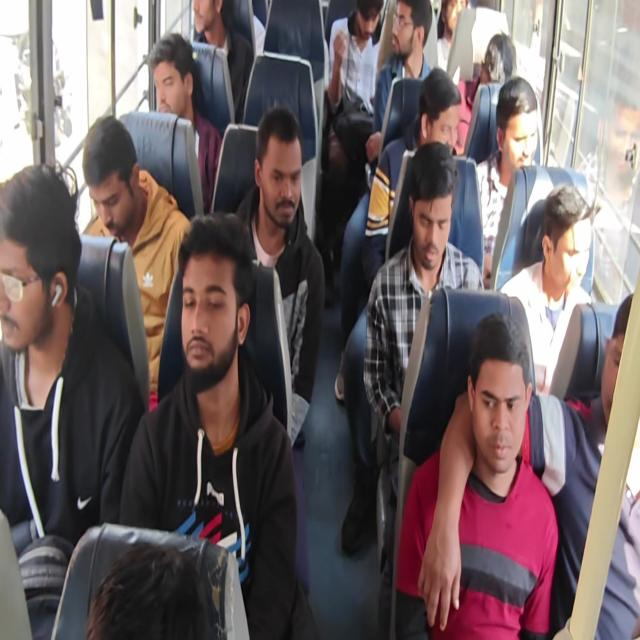person: (0, 161, 73, 364), (170, 219, 246, 391), (468, 324, 530, 479), (79, 116, 148, 233), (596, 301, 640, 471), (246, 120, 305, 237), (495, 87, 551, 191), (410, 160, 455, 274), (546, 198, 595, 300), (145, 45, 198, 134), (418, 78, 463, 162), (478, 22, 516, 106), (386, 0, 419, 68), (343, 0, 382, 53), (439, 0, 471, 37), (185, 0, 214, 39)
